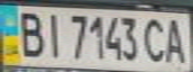1: (84, 11, 106, 60)
3: (118, 14, 142, 62)
4: (103, 12, 124, 61)
7: (66, 11, 87, 60)
A: (160, 15, 190, 64)
B: (12, 7, 48, 58)
C: (139, 15, 172, 64)
I: (39, 9, 66, 58)
